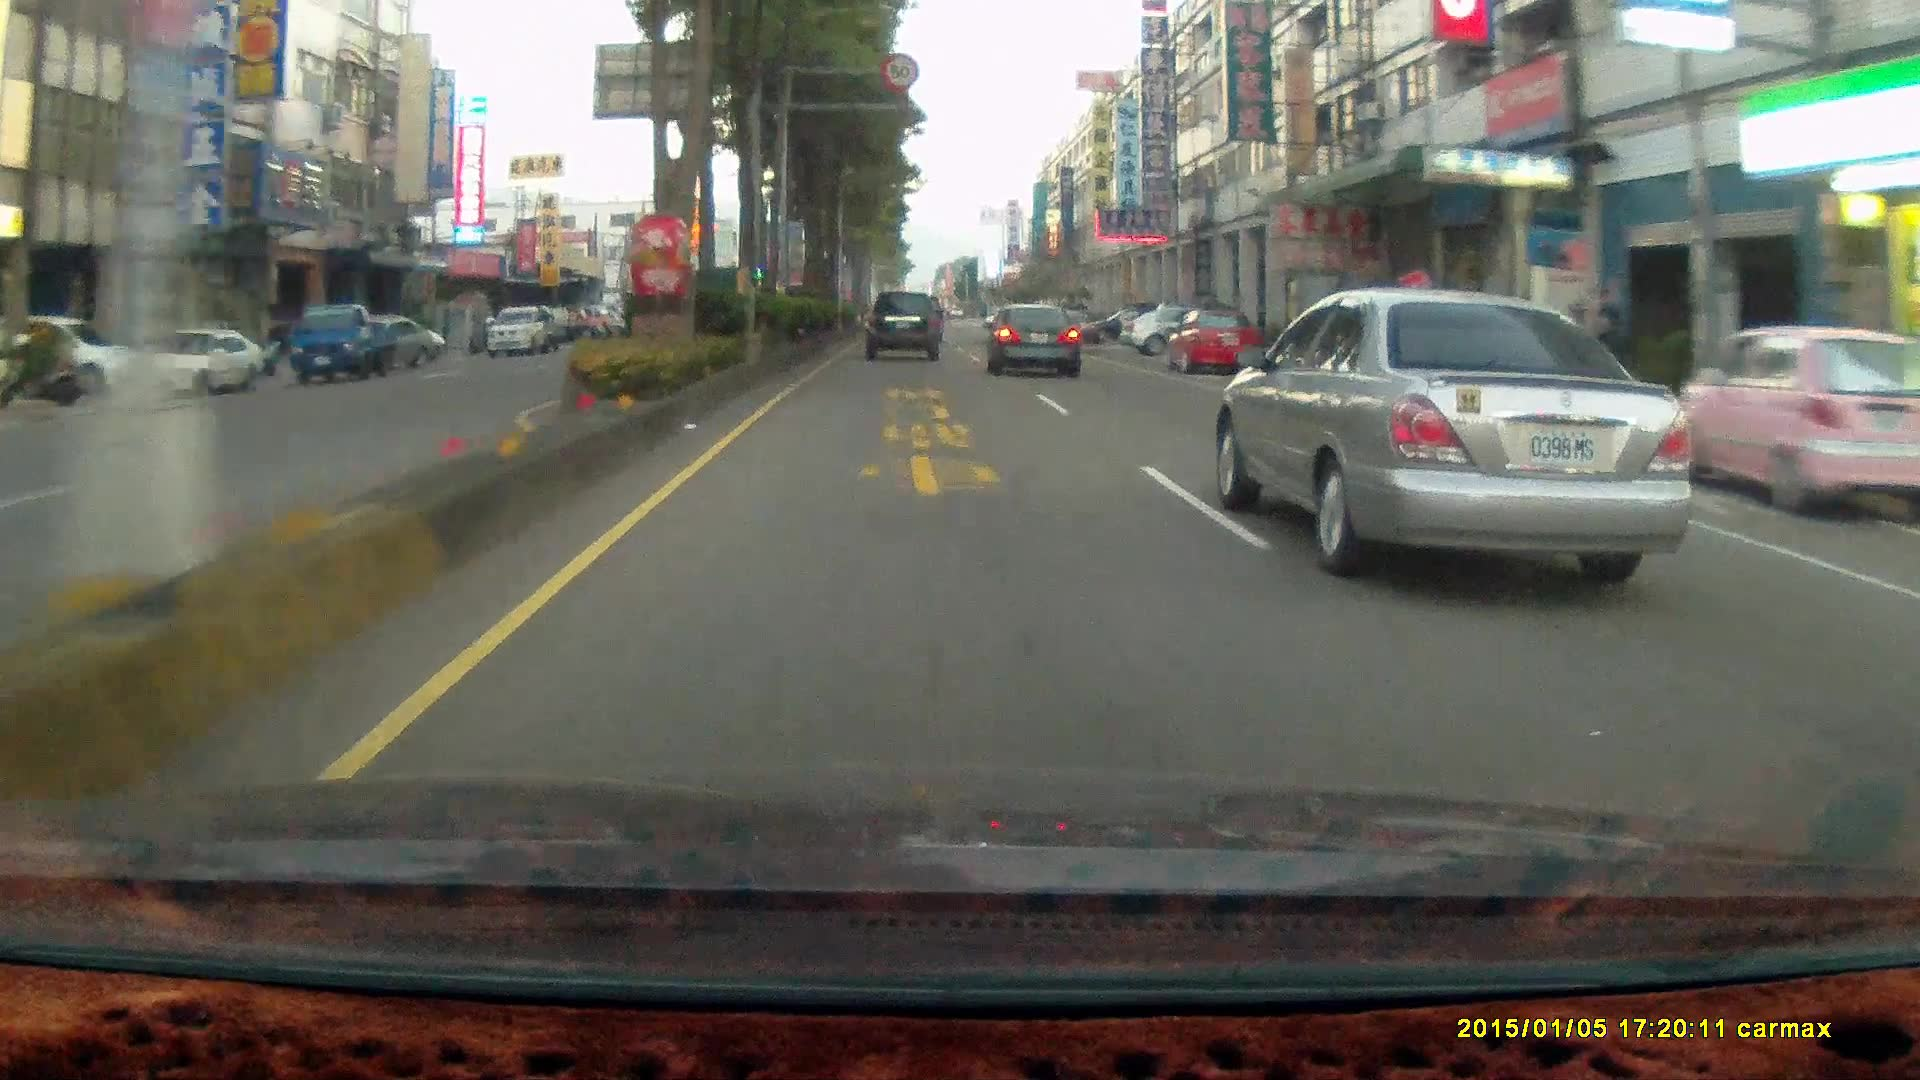vehicle: (1226, 286, 1713, 572), (1671, 324, 1920, 525), (1669, 326, 1911, 526), (1386, 295, 1586, 405), (0, 313, 146, 396), (123, 326, 265, 397), (287, 302, 411, 381), (123, 326, 262, 396), (289, 301, 396, 384), (982, 301, 1079, 378), (989, 301, 1085, 378), (1168, 307, 1261, 378), (1162, 306, 1255, 375), (866, 293, 949, 365), (1117, 295, 1233, 347), (861, 287, 940, 357), (334, 313, 433, 367), (487, 305, 553, 356), (1081, 307, 1164, 344)
